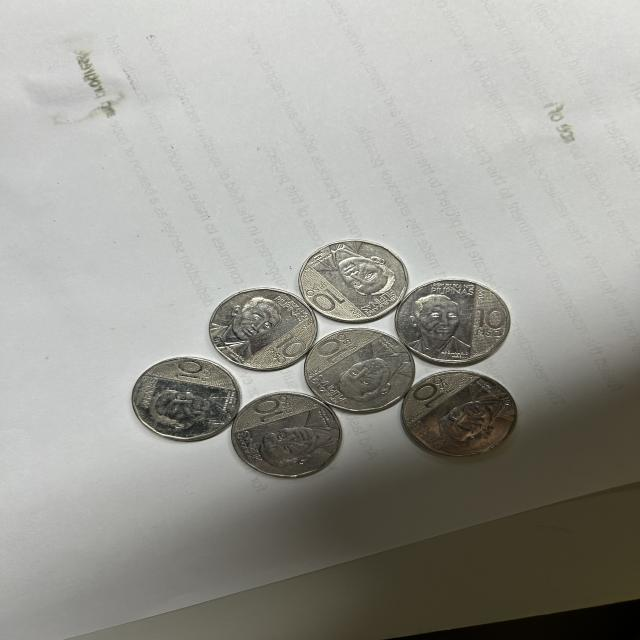10_New_Front: (473, 304, 508, 340), (316, 282, 349, 316), (257, 400, 303, 423), (172, 360, 212, 385), (417, 376, 449, 406), (266, 336, 302, 362), (317, 338, 352, 363)
